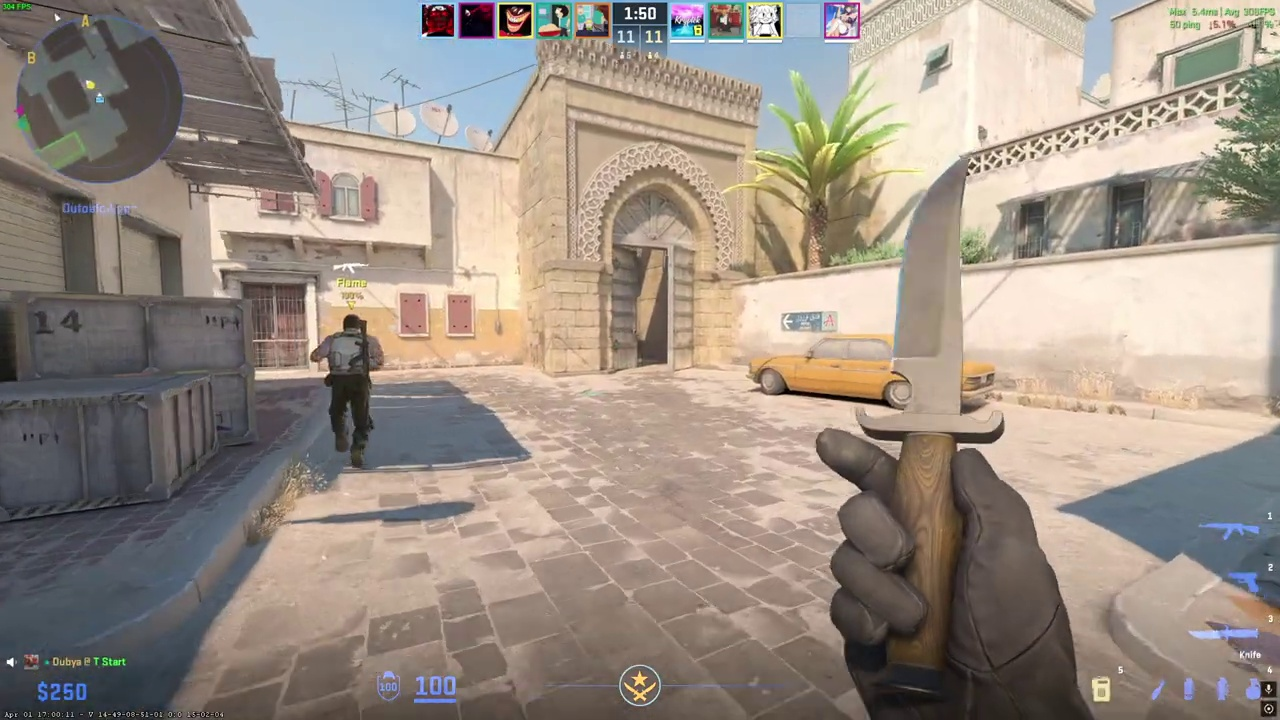Terrorist: (319, 314, 384, 468)
